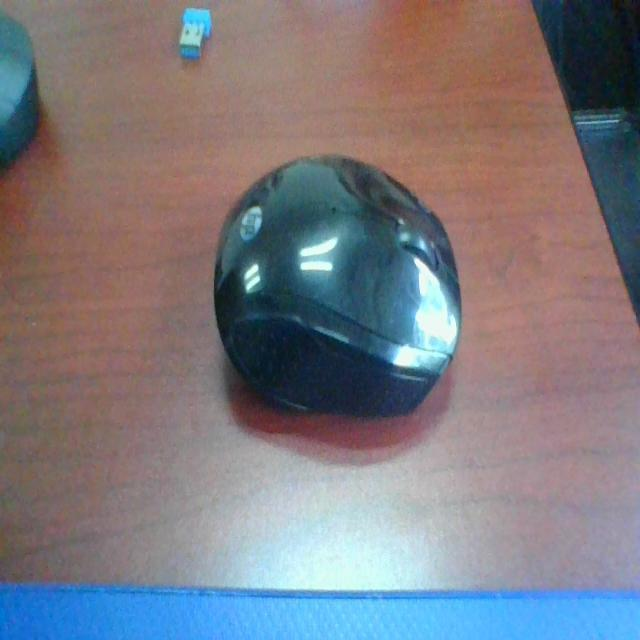mouse: (210, 151, 484, 418)
